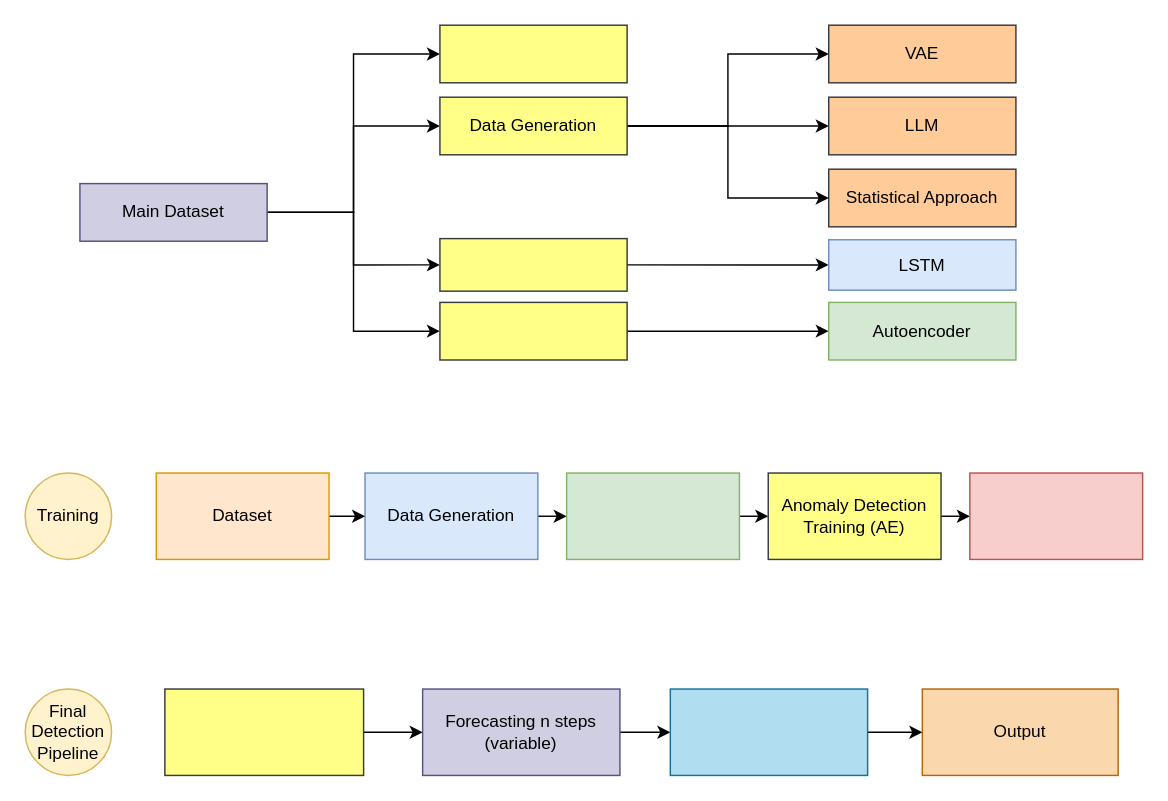
The diagram is 1168 pixels wide and 801 high, and some of its shapes have lost their labels. Here are the shapes that lost their labels. From the top down, the box of each, then its label:
(438, 24, 627, 83): EDA
(438, 237, 627, 291): Forecasting
(438, 301, 627, 360): Anomaly Detection
(565, 472, 739, 559): Forecasting LSTM Training
(968, 472, 1143, 559): Setup Threshold for Anomaly
(163, 688, 364, 775): Input with Window of 30
(669, 688, 868, 775): Apply Anomaly Detector on Forecasted Steps
